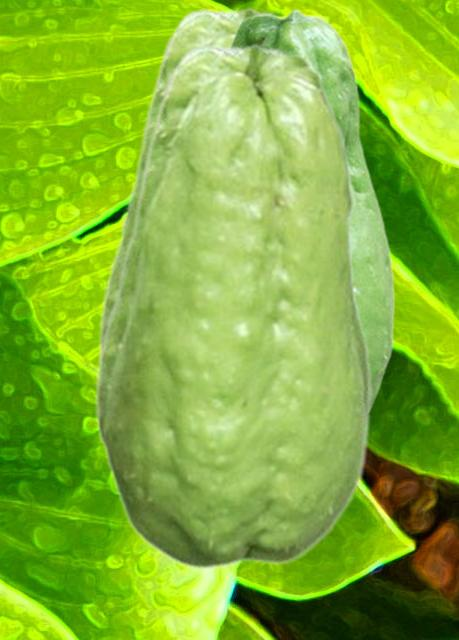sayote: (93, 42, 373, 571), (227, 8, 394, 411), (97, 6, 287, 350)
